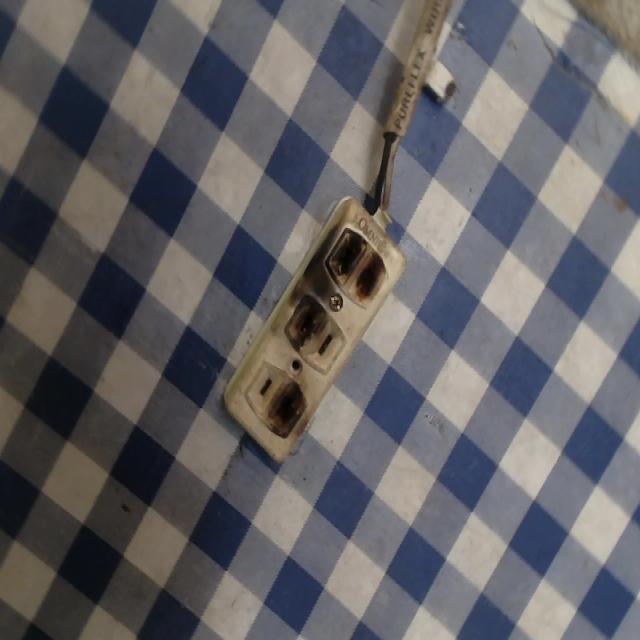-: (320, 208, 402, 309), (265, 280, 327, 351), (271, 378, 307, 438)
